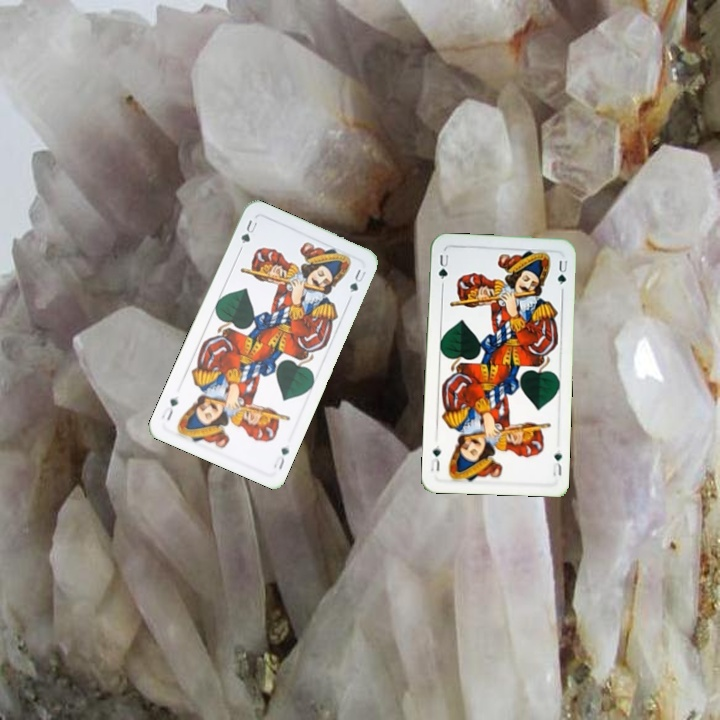GU: (237, 215, 260, 246), (269, 443, 292, 472), (434, 250, 451, 288), (548, 448, 565, 479)
